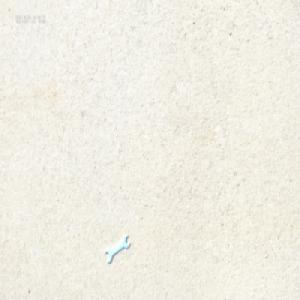Wrench: (105, 235, 130, 264)
